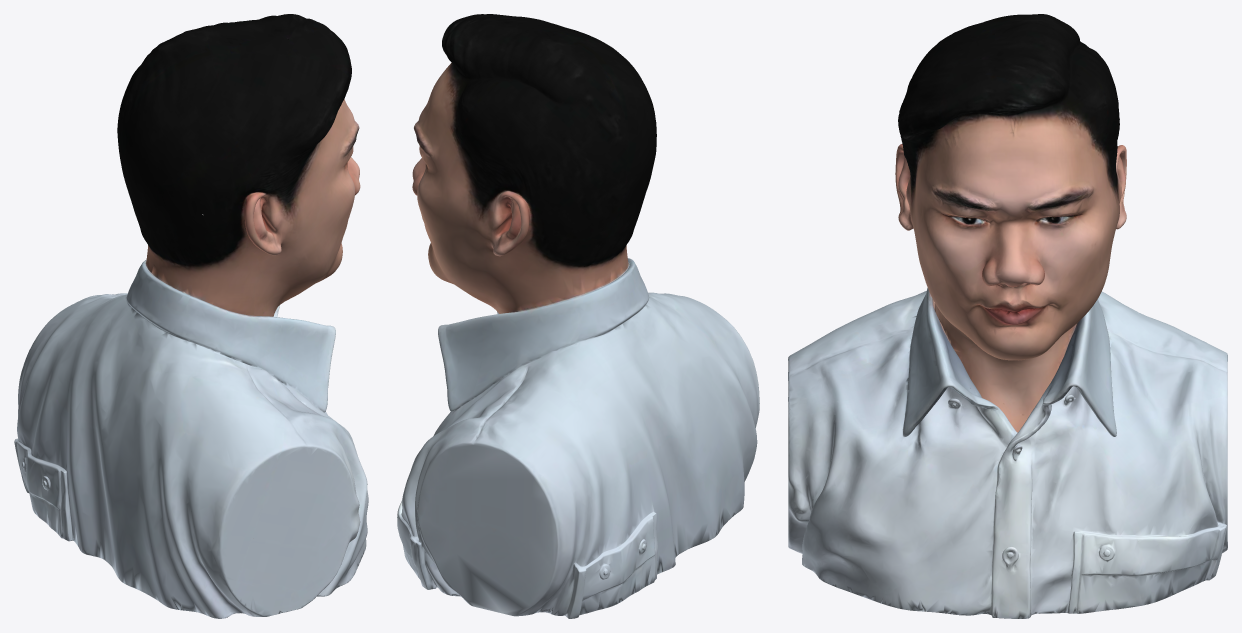
The model's file is portrait.glb.
3 views of the same model, side by side, from view 1: azimuth 30°, elevation 25°; view 2: azimuth 150°, elevation 25°; view 3: azimuth 270°, elevation 25° (orthographic). The views are drawn at different scales.
Visible parts, largest first — view 1: tripo_node_0180d024-7ac2-49ac-8241-c57592a6f22c; view 2: tripo_node_0180d024-7ac2-49ac-8241-c57592a6f22c; view 3: tripo_node_0180d024-7ac2-49ac-8241-c57592a6f22c.
Part boxes in pixels (bbox=[...]): tripo_node_0180d024-7ac2-49ac-8241-c57592a6f22c: bbox=[14, 14, 368, 618]; tripo_node_0180d024-7ac2-49ac-8241-c57592a6f22c: bbox=[397, 14, 759, 618]; tripo_node_0180d024-7ac2-49ac-8241-c57592a6f22c: bbox=[788, 14, 1227, 618].
Size of the model in its own units: 0.564 by 0.9785 by 0.726.
Materials: 1 (1 with a texture image).
